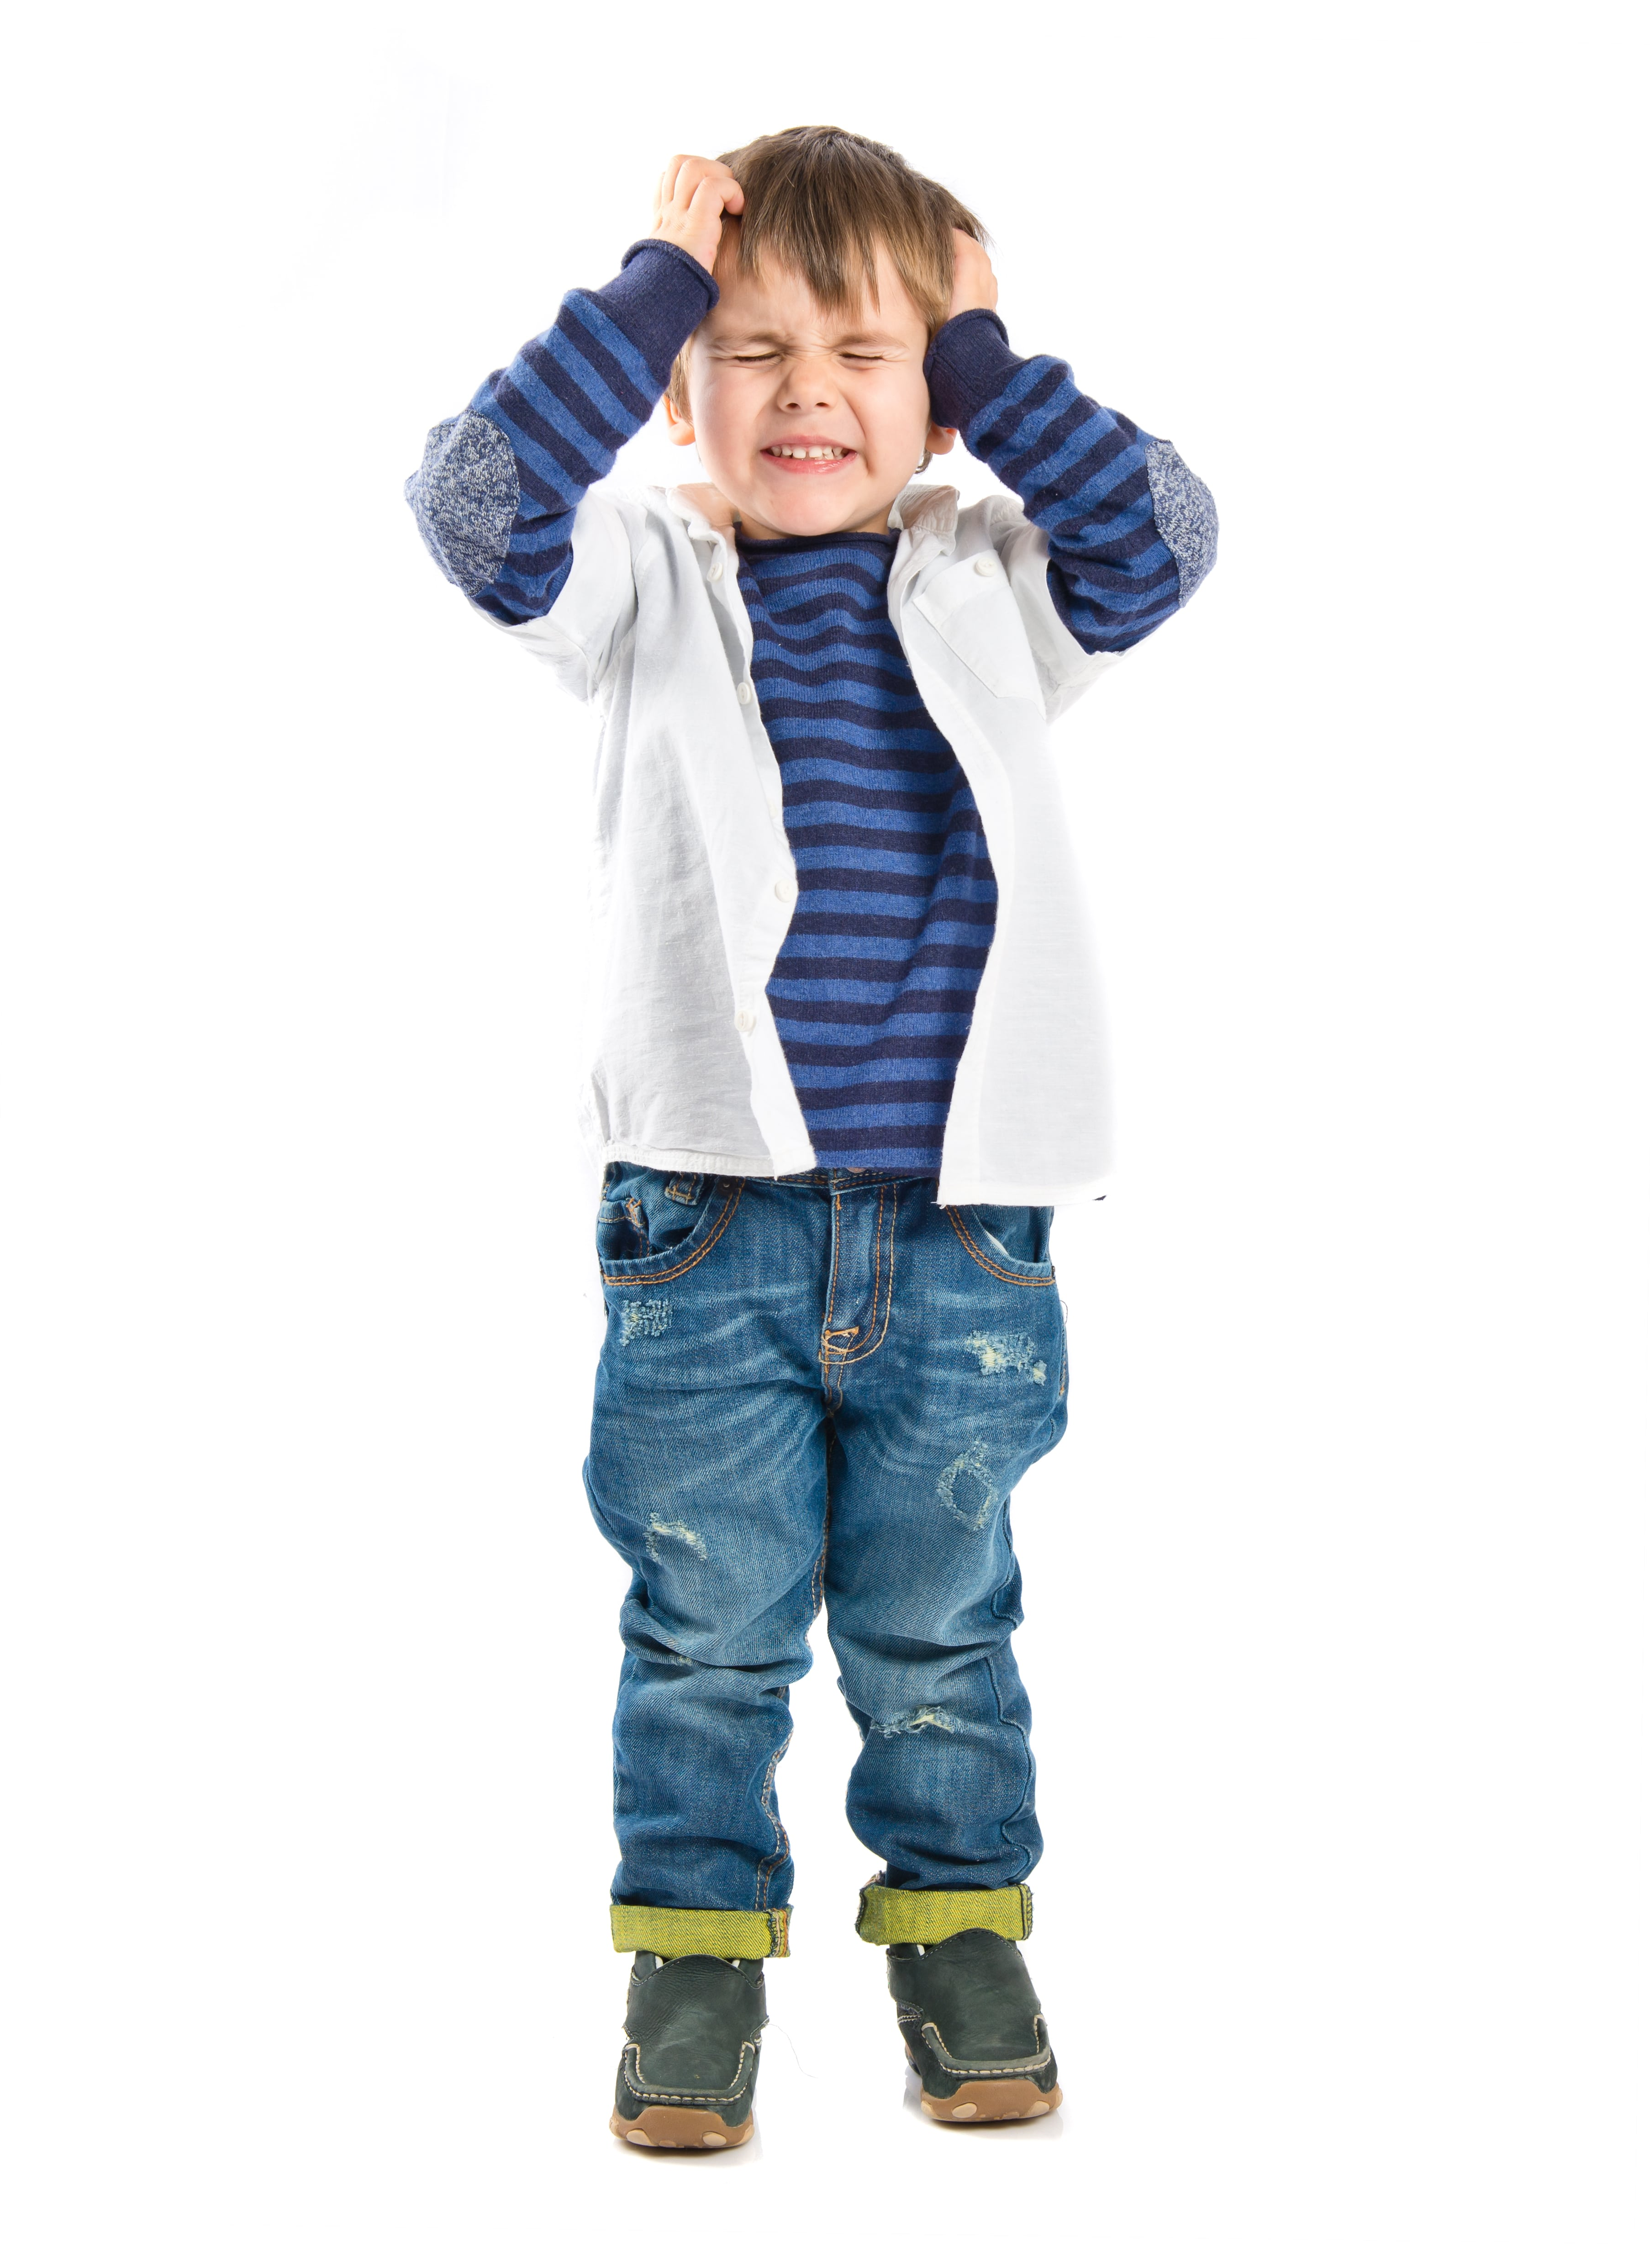human: (385, 98, 1258, 2158)
